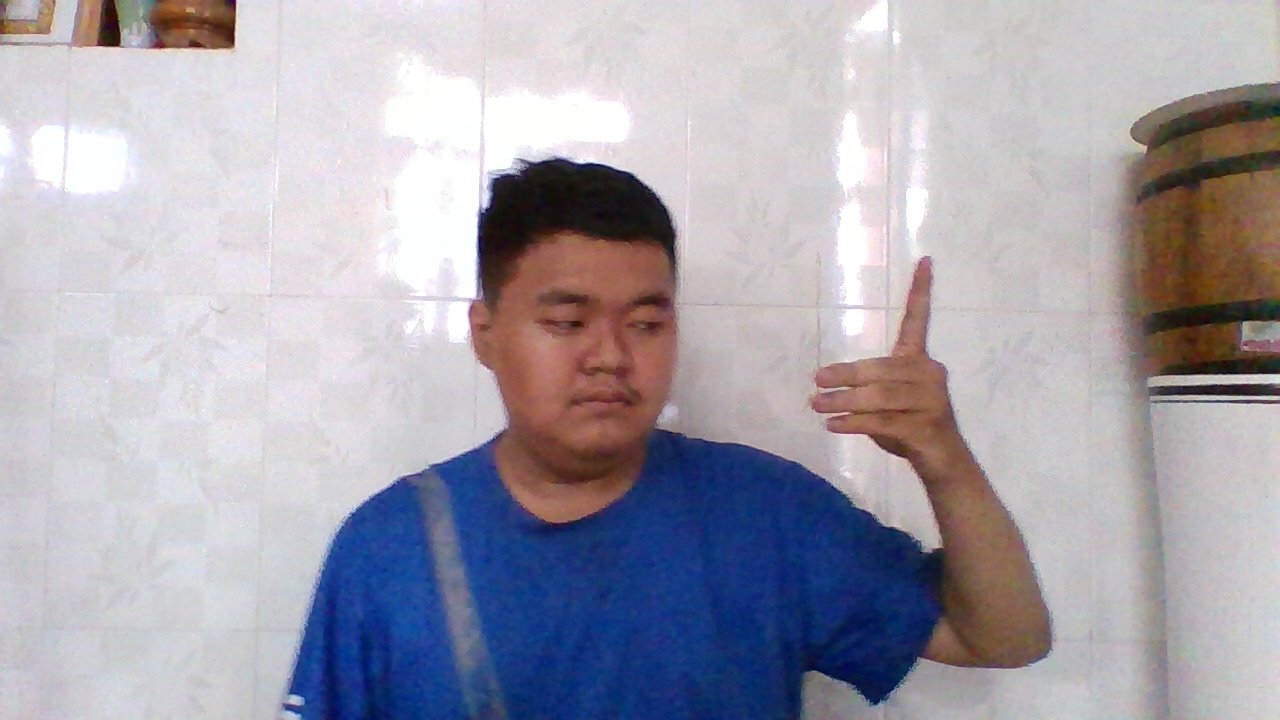D: (798, 246, 966, 491)
